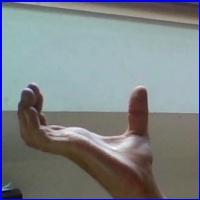B: (8, 72, 170, 186)
